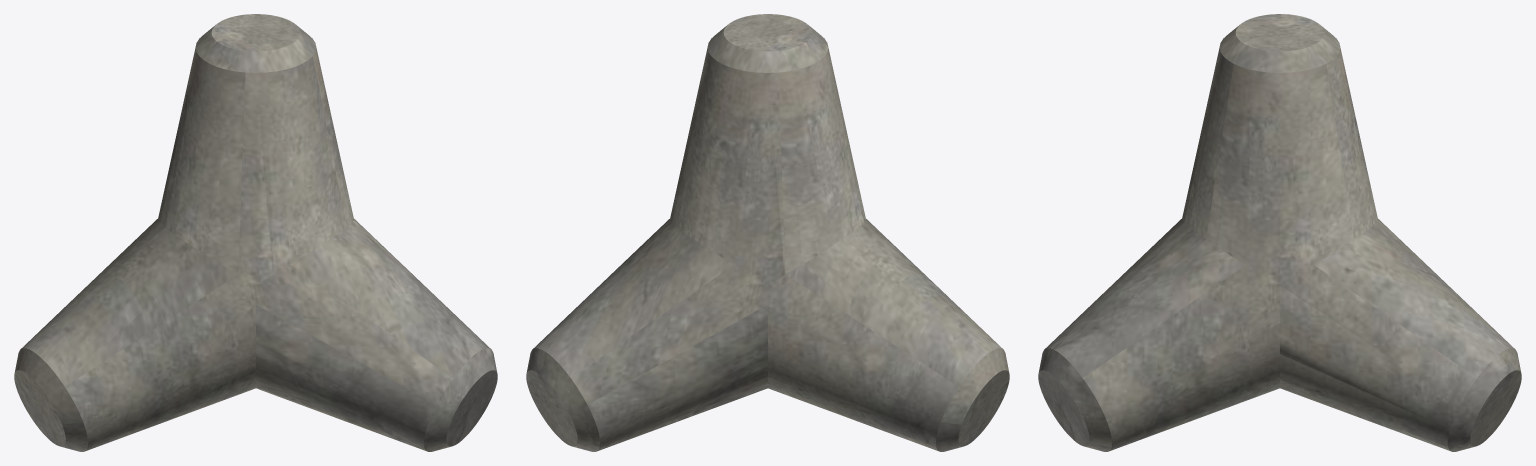
The model's file is tetrapod.glb.
The picture shows the model from 3 angles, left to right: view 1: azimuth 30°, elevation 25°; view 2: azimuth 150°, elevation 25°; view 3: azimuth 270°, elevation 25°; orthographic projection.
Visible parts, largest first — view 1: tetrapod; view 2: tetrapod; view 3: tetrapod.
Part boxes in pixels (left/top/right/bottom): tetrapod: left=14, top=14, right=497, bottom=451; tetrapod: left=526, top=14, right=1009, bottom=451; tetrapod: left=1038, top=14, right=1521, bottom=451.
Size of the model in its own units: 1.6 by 1.5 by 1.78.
Materials: 1 (1 with a texture image).
